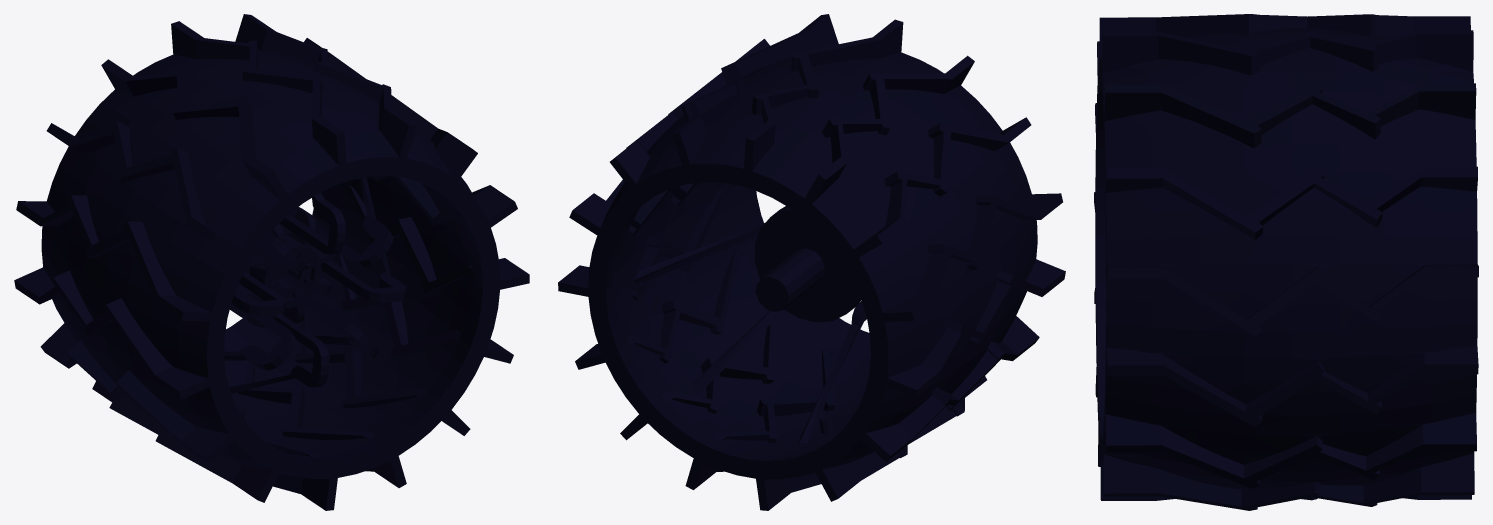
File: Mars6Mars_Rover__Curiosity_1_0__-_1__Rover_Wheel_right_3.001.dae
3 renders of one model, left to right at view 1: azimuth 30°, elevation 25°; view 2: azimuth 150°, elevation 25°; view 3: azimuth 270°, elevation 25°, orthographic. The views are drawn at different scales.
Visible parts, largest first — view 1: tmp_export_Mars6Mars_Rover__Curiosity_1_0__-_1__Rover_Wheel_; view 2: tmp_export_Mars6Mars_Rover__Curiosity_1_0__-_1__Rover_Wheel_; view 3: tmp_export_Mars6Mars_Rover__Curiosity_1_0__-_1__Rover_Wheel_.
Boxes of the visible parts, x1,y1,x2,y2 form: tmp_export_Mars6Mars_Rover__Curiosity_1_0__-_1__Rover_Wheel_: (14,14,529,510); tmp_export_Mars6Mars_Rover__Curiosity_1_0__-_1__Rover_Wheel_: (558,14,1065,510); tmp_export_Mars6Mars_Rover__Curiosity_1_0__-_1__Rover_Wheel_: (1094,14,1478,510).
Size of the model in its own units: 0.1561 by 0.1201 by 0.1553.
